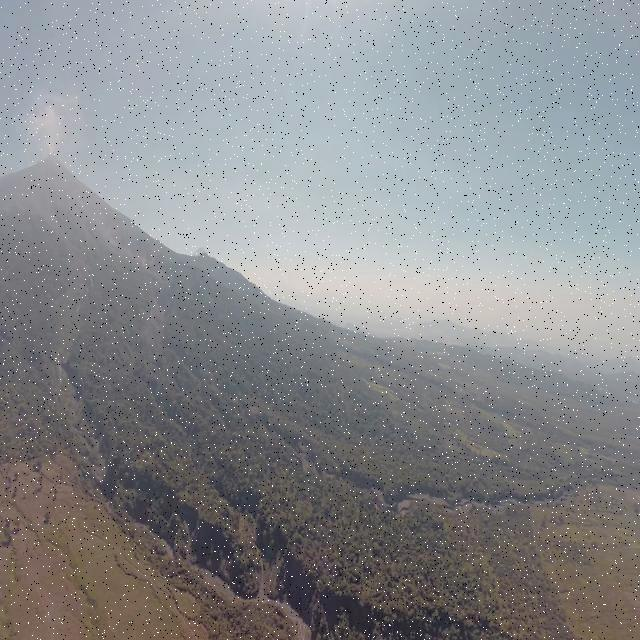Plume: (26, 99, 74, 152)
Summit: (36, 150, 66, 172)
